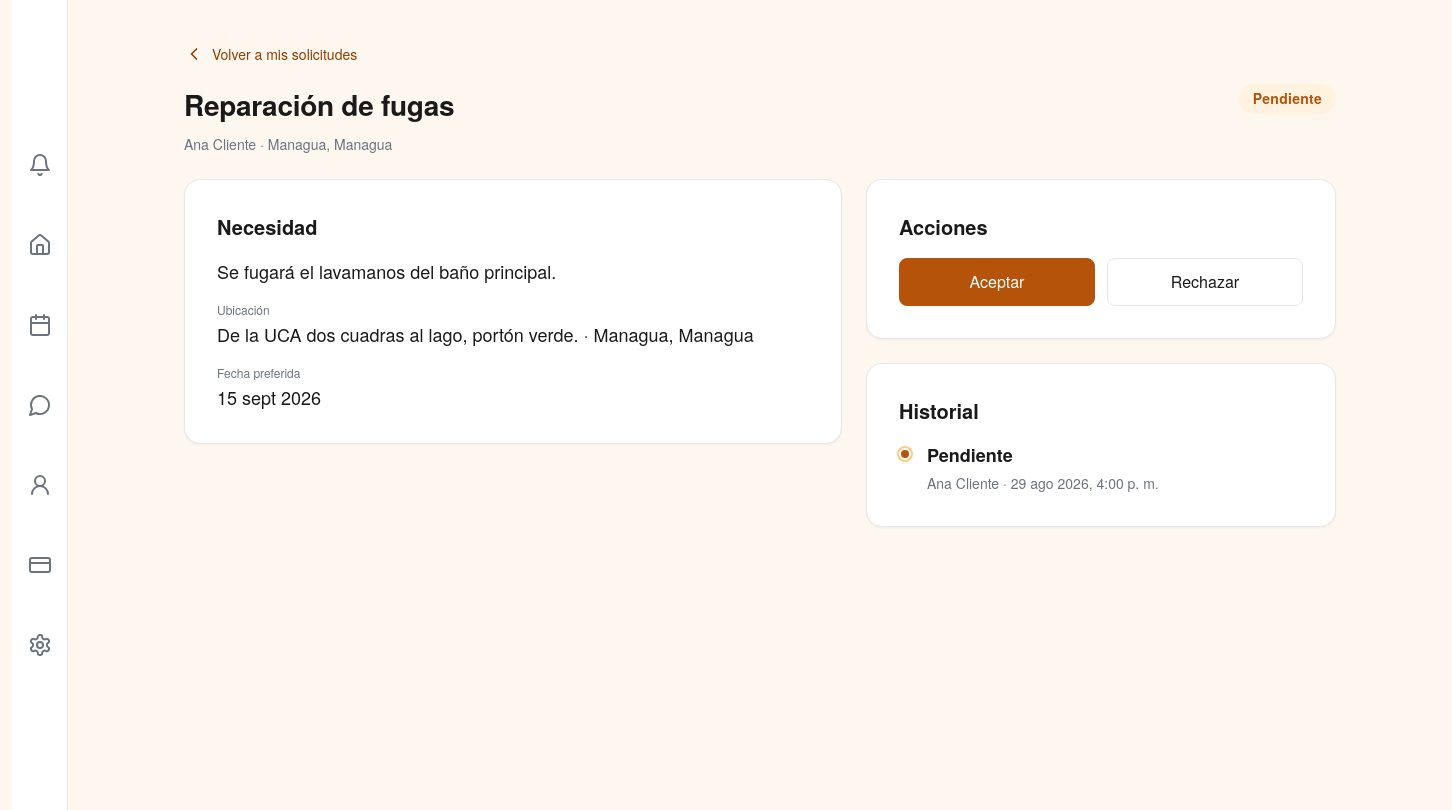
Test: Detalle de solicitud › rechaza y actualiza el estado
This screenshot has width=1452, height=810.
Click the button "Rechazar": [1205, 282] box [1107,258,1303,306]
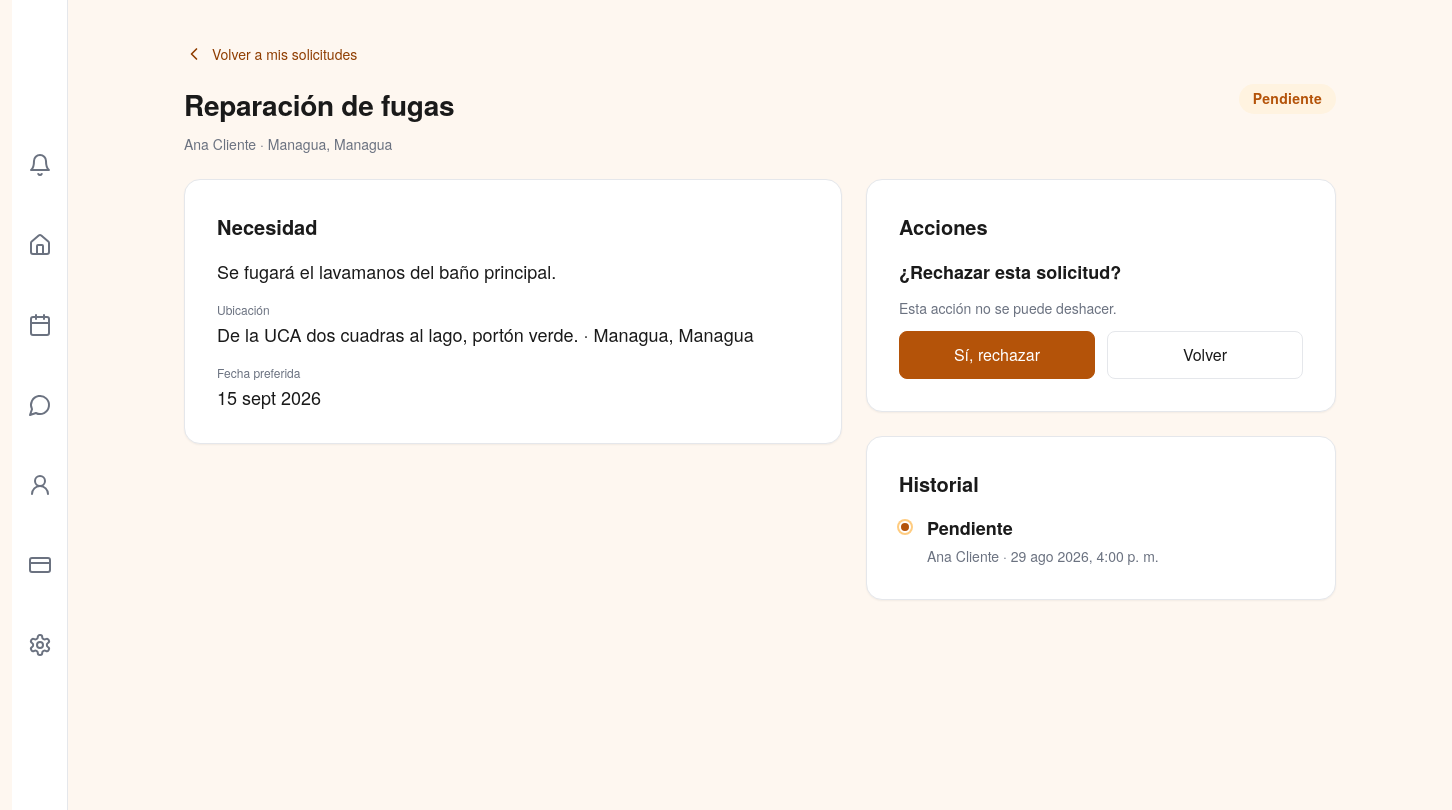
Click the button "Sí, rechazar": [997, 355] box [899,331,1095,379]
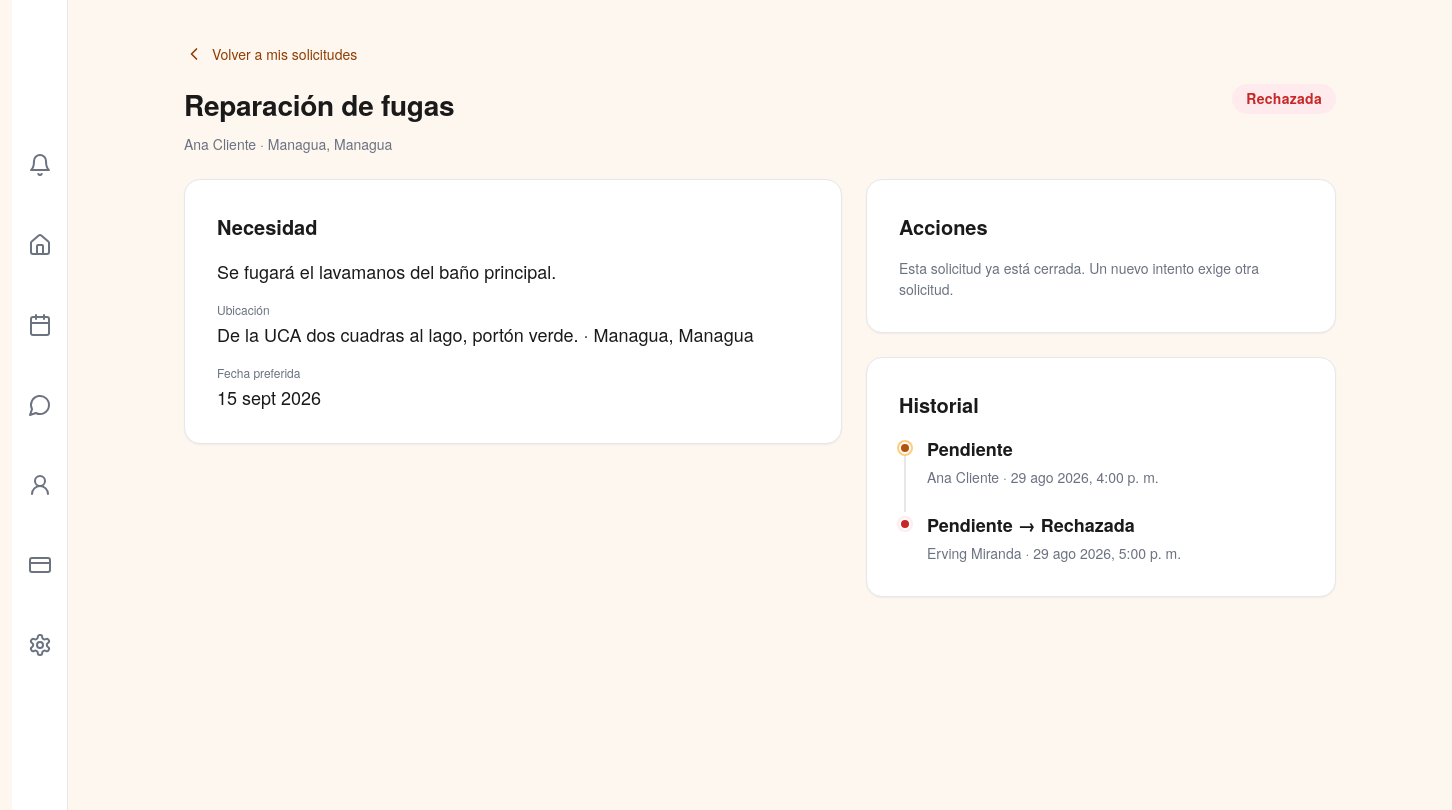
Expected: the text "Esta solicitud ya está cerrada. Un nuevo intento exige otra solicitud." is shown, [899,258,1303,300]
